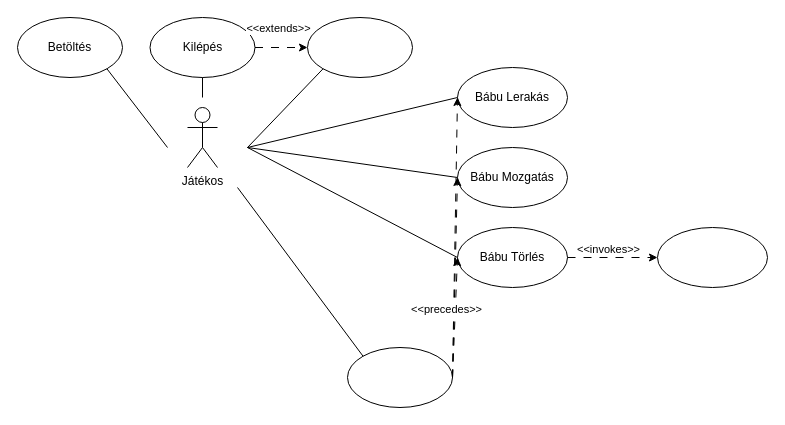
Some shapes in this 785 by 425 pixel diagram are drawn without their labels. The centre of each missing label's shape, as x and y in pixels:
"Játék Vége" goes at point (712, 257).
"Mentés" goes at point (359, 47).
"Új Játék" goes at point (399, 377).
